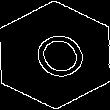O_SE: (19, 22, 91, 88)
